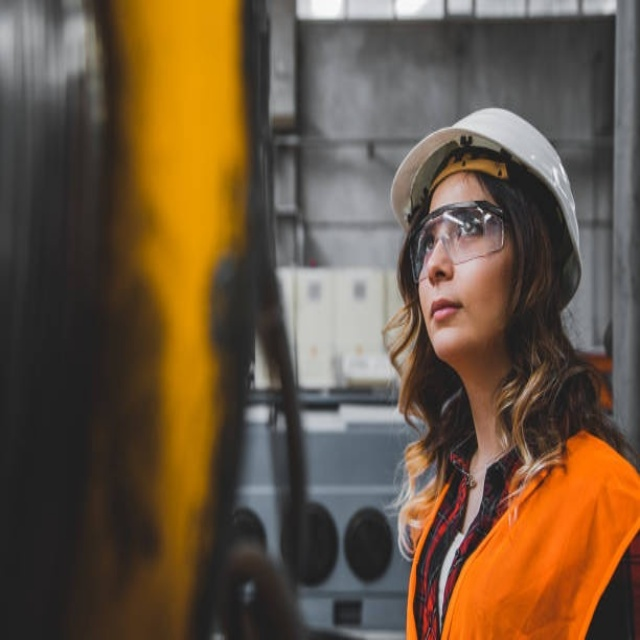Gafas: (411, 199, 509, 282)
Sin_mascara: (424, 289, 479, 342)
